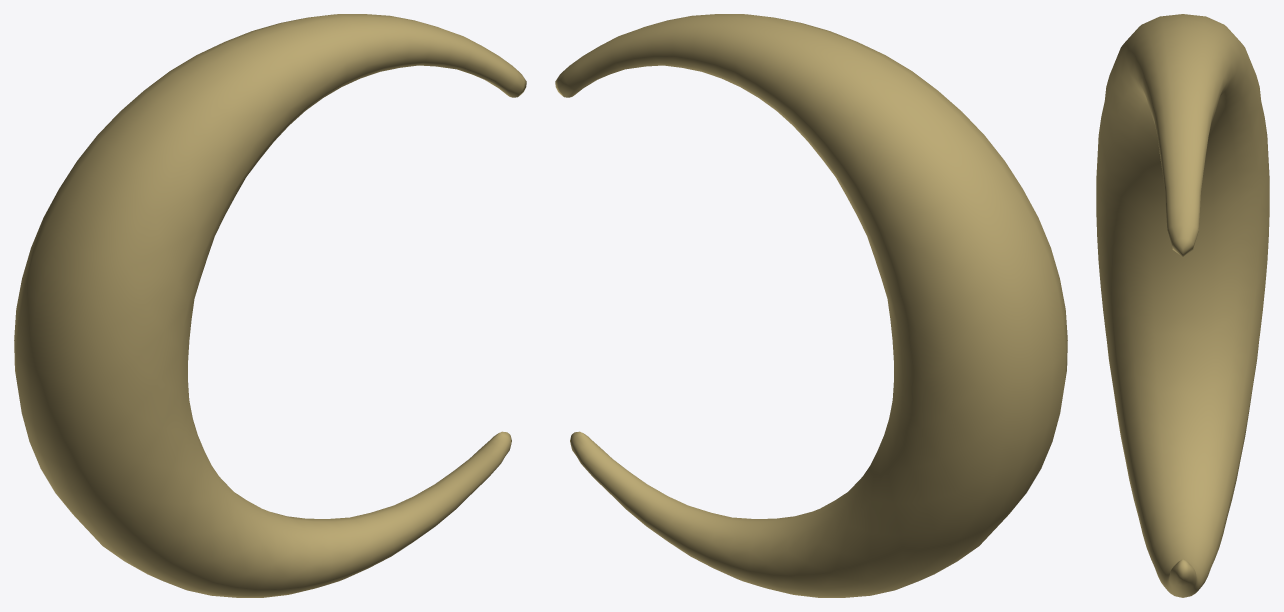
The model's file is Crescent Moon round.fbx.
The picture shows the model from 3 angles, left to right: view 1: azimuth 30°, elevation 25°; view 2: azimuth 150°, elevation 25°; view 3: azimuth 270°, elevation 25°; orthographic projection. The views are drawn at different scales.
Visible parts, largest first — view 1: Moon; view 2: Moon; view 3: Moon.
Boxes of the visible parts, bbox=[...] form: Moon: bbox=[14, 14, 526, 597]; Moon: bbox=[555, 14, 1067, 597]; Moon: bbox=[1096, 14, 1269, 597].
Bounding box in the file's own units: 4.76 × 5.13 × 1.53.
